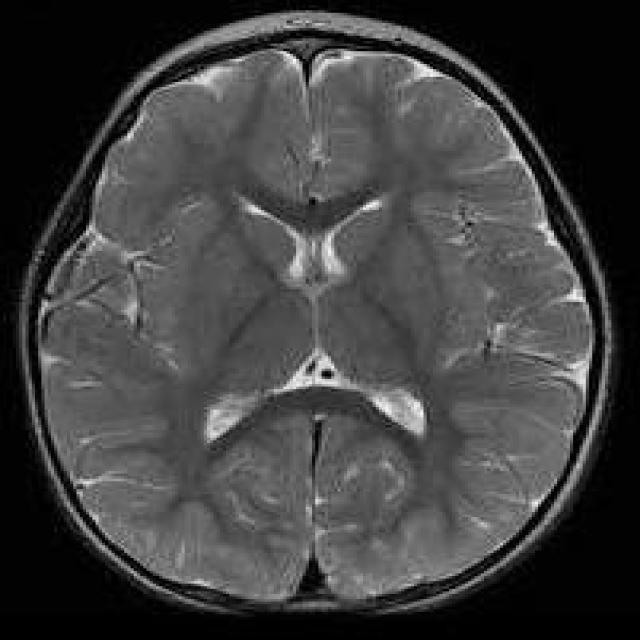notumor: (22, 13, 602, 612)
